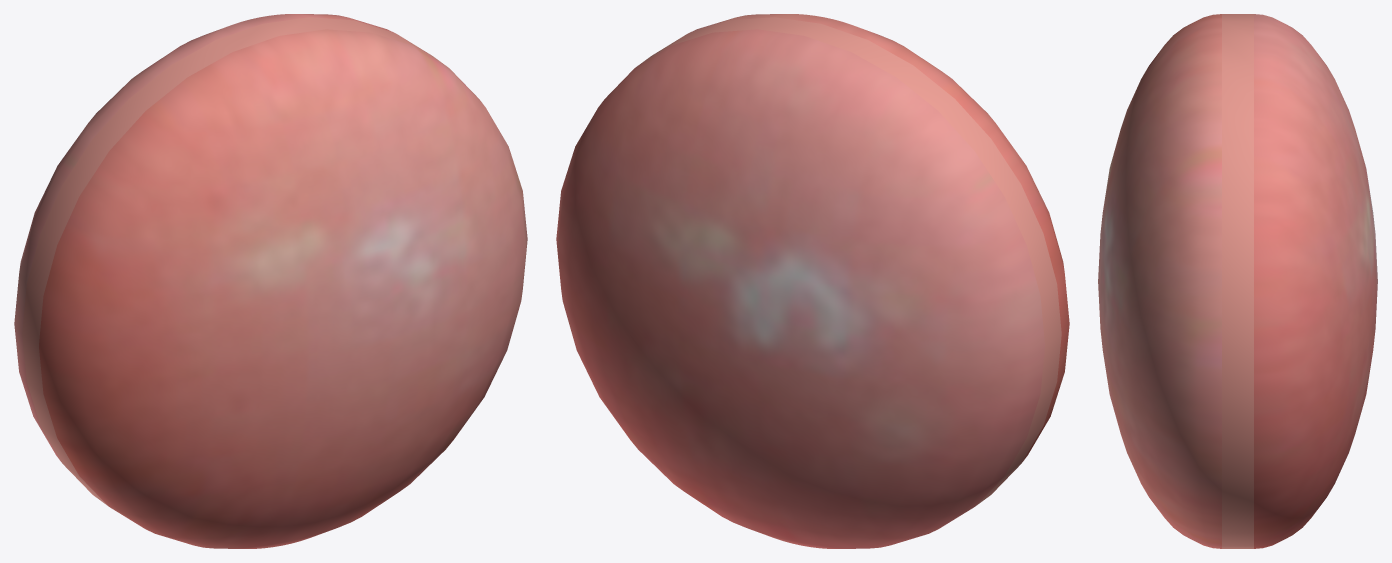
Rendered from 20140311GOPHDRGPT02387.fbx.
3 renders of one model, left to right at view 1: azimuth 30°, elevation 25°; view 2: azimuth 150°, elevation 25°; view 3: azimuth 270°, elevation 25°, orthographic. The views are drawn at different scales.
Visible parts, largest first — view 1: 球體.028; view 2: 球體.028; view 3: 球體.028.
Boxes of the visible parts, x1,y1,x2,y2 form: 球體.028: (14, 14, 527, 548); 球體.028: (556, 14, 1069, 548); 球體.028: (1098, 14, 1377, 548).
Bounding box in the file's own units: 1.24 × 1.24 × 0.6502.
Materials: 1 (1 with a texture image).
